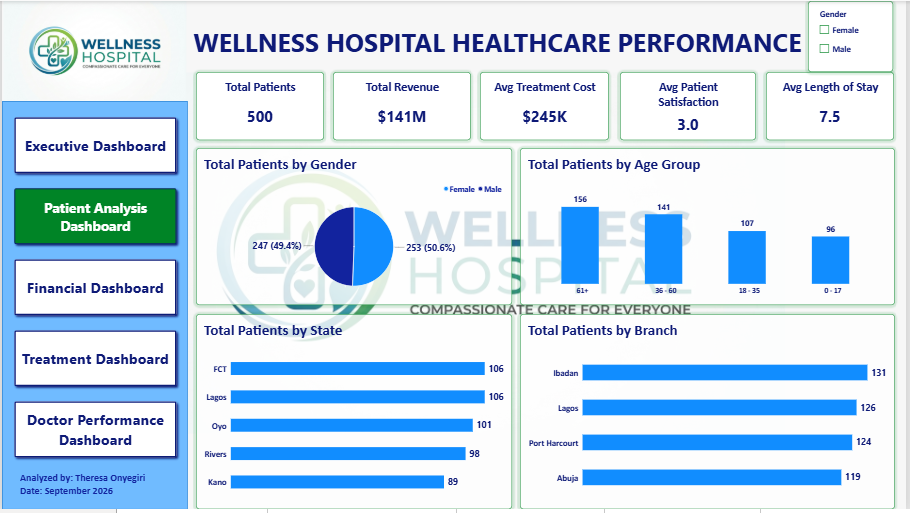

What the dashboard file says about the page in this screenshot:
{"tool":"powerbi","page":{"name":"Patient Analysis Dashboard","canvas":[1920,1080],"ordinal":1},"visuals":[{"type":"image","box":[0,0,394.7,212.4],"z":0},{"type":"shape","box":[0,212.6,395.3,868.3],"z":1000},{"type":"textbox","box":[346.5,12.8,1413.7,120.1],"z":2000},{"type":"pageNavigator","box":[17,238.1,363.5,744.1],"z":3000},{"type":"pieChart","title":"Total Patients by Gender","fields":{"Category":["Table1.Gender"],"Y":["Table1.Total Patients"]},"box":[412.4,312.5,671.8,333.8],"z":4000},{"type":"clusteredColumnChart","title":"Total Patients by Age Group","fields":{"Y":["Table1.Total Patients"],"Category":["Table1.Age_Range"]},"box":[1101.3,312.5,797.2,333.8],"z":5000},{"type":"clusteredBarChart","fields":{"Y":["Table1.Total Patients"],"Category":["Table1.State"]},"box":[412.4,665.4,671.8,414.6],"z":6000},{"type":"clusteredBarChart","title":"Total Patients by Branch","fields":{"Y":["Table1.Total Patients"],"Category":["Table1.Hospital_Branch"]},"box":[1101.3,665.4,797.2,414.6],"z":7000},{"type":"card","title":"Total Patients","fields":{"Values":["Table1.Total Patients"]},"box":[412.4,150.9,272.1,144.6],"z":8000},{"type":"card","title":"Total Revenue","fields":{"Values":["Table1.Total Revenue"]},"box":[703.7,150.9,293.4,144.6],"z":9000},{"type":"card","title":"Avg Treatment Cost","fields":{"Values":["Table1.Avg Treatment Cost"]},"box":[1016.2,150.9,274.3,144.6],"z":10000},{"type":"card","title":"Avg Patient Satisfaction","fields":{"Values":["Table1.Avg Patient Satisfaction"]},"box":[1313.9,150.9,289.1,144.6],"z":11000},{"type":"card","title":"Avg Length of Stay","fields":{"Values":["Table1.Avg Length of Stay"]},"box":[1624.3,150.9,272.1,144.6],"z":12000},{"type":"slicer","fields":{"Values":["Table1.Gender"]},"box":[1713.5,0,180.7,150.9],"z":13000},{"type":"textbox","box":[38.3,1001.3,312.5,78.7],"z":13001}]}

Visuals, with their boxes in screenshot pixels (x1, y1, x2, y2), scaled from the page's 1920x1080 canvas onto the 910x513 screenshot:
image: 0/0/187/101
shape: 0/101/187/512
textbox: 164/6/834/63
pageNavigator: 8/113/180/467
"Total Patients by Gender" pieChart: 195/148/514/307
"Total Patients by Age Group" clusteredColumnChart: 522/148/900/307
clusteredBarChart - Table1.Total Patients x Table1.State: 195/316/514/512
"Total Patients by Branch" clusteredBarChart: 522/316/900/512
"Total Patients" card: 195/72/324/140
"Total Revenue" card: 334/72/473/140
"Avg Treatment Cost" card: 482/72/612/140
"Avg Patient Satisfaction" card: 623/72/760/140
"Avg Length of Stay" card: 770/72/899/140
slicer - Table1.Gender: 812/0/898/72
textbox: 18/476/166/512
